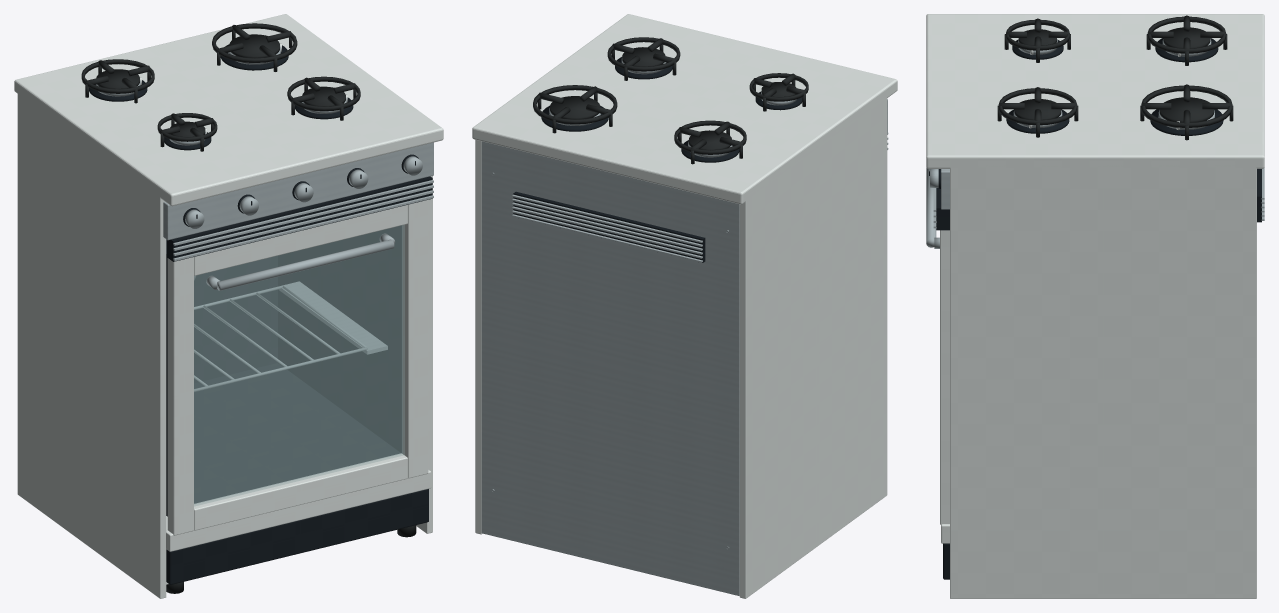
Rendered from source.glb.
3 renders of one model, left to right at view 1: azimuth 30°, elevation 25°; view 2: azimuth 150°, elevation 25°; view 3: azimuth 270°, elevation 25°, orthographic. The views are drawn at different scales.
Visible parts, largest first — view 1: Left folded cabinet panel, Finite smoked oven glazing, Enamelled hob tray, Oven chamber horizontal liner, Enamelled oven cavity side.001, Cooker lower plinth, Full width control fascia, Oven door vertical frame, Oven chamber rear, Oven door vertical frame.001, Oven door cross frame, Lower oven door trim (+15 smaller); view 2: Rear service enclosure, Left folded cabinet panel, Enamelled hob tray, Right folded cabinet panel, Rear heat escape vent dark recess, Cast pan-support surround.003, Cast pan-support surround.001, Cast pan-support surround.002, Black enamel burner cap.003, Rear heat escape vent horizontal louvre.001, Rear heat escape vent horizontal louvre.005, Rear heat escape vent horizontal louvre (+4 smaller); view 3: Right folded cabinet panel, Enamelled hob tray, Oven door vertical frame.001, Cast pan-support surround.003, Black enamel burner cap.003, Cast pan-support surround.002, Cast pan-support surround.001, Cast pan-support surround, Black enamel burner cap.001, Black enamel burner cap.002, Tubular door handle, Recessed burner well.003 (+2 smaller).
Part boxes in pixels (x1,y1,x2,y2): Left folded cabinet panel: (17,91,166,598); Finite smoked oven glazing: (194,225,404,506); Enamelled hob tray: (14,14,443,206); Oven chamber horizontal liner: (194,363,400,503); Enamelled oven cavity side.001: (278,225,401,452); Cooker lower plinth: (166,489,428,584); Full width control fascia: (163,142,433,240); Oven door vertical frame: (167,257,193,535); Oven chamber rear: (194,256,277,382); Oven door vertical frame.001: (402,200,428,478); Oven door cross frame: (194,453,407,530); Lower oven door trim: (166,470,431,551); Rear service enclosure: (481,141,739,595); Left folded cabinet panel: (739,96,887,598); Enamelled hob tray: (472,14,897,204); Right folded cabinet panel: (475,139,482,534); Rear heat escape vent dark recess: (513,191,705,262); Cast pan-support surround.003: (533,85,617,124); Cast pan-support surround.001: (607,37,680,71); Cast pan-support surround.002: (674,120,746,154); Black enamel burner cap.003: (550,96,600,119); Rear heat escape vent horizontal louvre.001: (512,210,702,258); Rear heat escape vent horizontal louvre.005: (512,194,702,242); Rear heat escape vent horizontal louvre: (512,214,702,262); Right folded cabinet panel: (950,165,1256,598); Enamelled hob tray: (926,14,1264,168); Oven door vertical frame.001: (940,230,949,524); Cast pan-support surround.003: (1141,85,1232,127); Black enamel burner cap.003: (1159,97,1214,122); Cast pan-support surround.002: (1147,16,1226,53); Cast pan-support surround.001: (998,88,1077,125); Cast pan-support surround: (1006,20,1069,50); Black enamel burner cap.001: (1014,99,1061,119); Black enamel burner cap.002: (1163,27,1210,48); Tubular door handle: (926,168,936,247); Recessed burner well.003: (1150,109,1223,135).
Bounding box in the file's own units: 0.6 × 0.9 × 0.6.
Materials: 6 (6 with a texture image).
